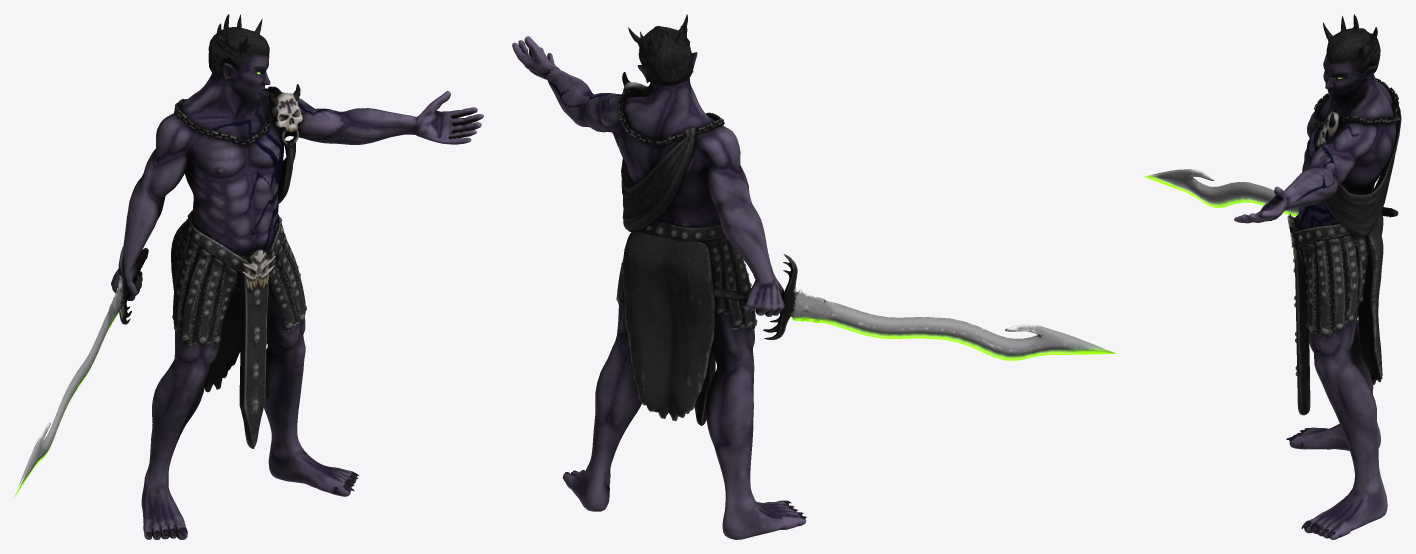
Rendered from MZ4250 - Graz'zt.glb.
3 renders of one model, left to right at view 1: azimuth 30°, elevation 25°; view 2: azimuth 150°, elevation 25°; view 3: azimuth 270°, elevation 25°, orthographic. The views are drawn at different scales.
Parts seen in each view (by area): view 1: Body.002; view 2: Body.002; view 3: Body.002.
Boxes of the visible parts, <box> form: Body.002: <box>14,14,483,539</box>; Body.002: <box>512,14,1115,539</box>; Body.002: <box>1144,14,1401,539</box>.
Bounding box in the file's own units: 1.58 × 1.38 × 0.6844.
1 material, 1 textured.
